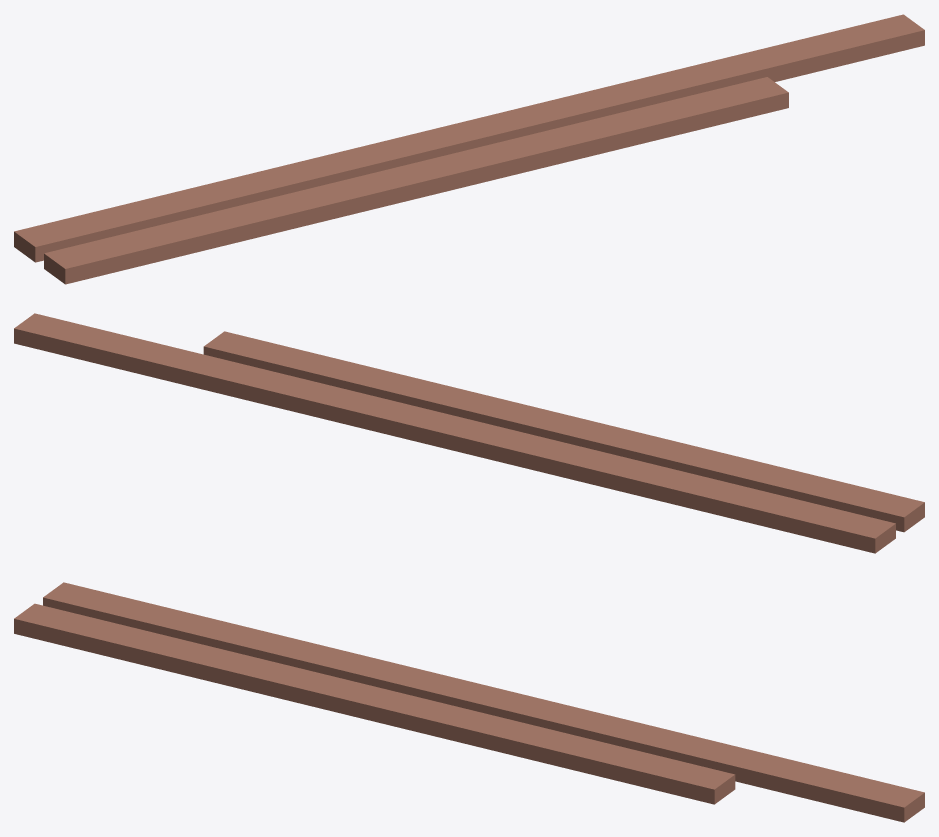
File: beam-250x100_ipe_v0.1.glb
The picture shows the model from 3 angles, top to bottom: view 1: azimuth 30°, elevation 25°; view 2: azimuth 150°, elevation 25°; view 3: azimuth 330°, elevation 25°; orthographic projection. The views are drawn at different scales.
Parts seen in each view (by area): view 1: IB-272570_beam-250x100_ipe_6000mm, IB-272615_beam-250x100_ipe_4880mm; view 2: IB-272570_beam-250x100_ipe_6000mm, IB-272615_beam-250x100_ipe_4880mm; view 3: IB-272570_beam-250x100_ipe_6000mm, IB-272615_beam-250x100_ipe_4880mm.
Part boxes in pixels (box(x1,y1,x2,y2)): IB-272570_beam-250x100_ipe_6000mm: box(14, 14, 924, 262); IB-272615_beam-250x100_ipe_4880mm: box(44, 77, 788, 284); IB-272570_beam-250x100_ipe_6000mm: box(14, 313, 895, 553); IB-272615_beam-250x100_ipe_4880mm: box(203, 331, 924, 532); IB-272570_beam-250x100_ipe_6000mm: box(43, 582, 924, 822); IB-272615_beam-250x100_ipe_4880mm: box(14, 603, 735, 804).
Size of the model in its own units: 6 by 0.1 by 0.6.
